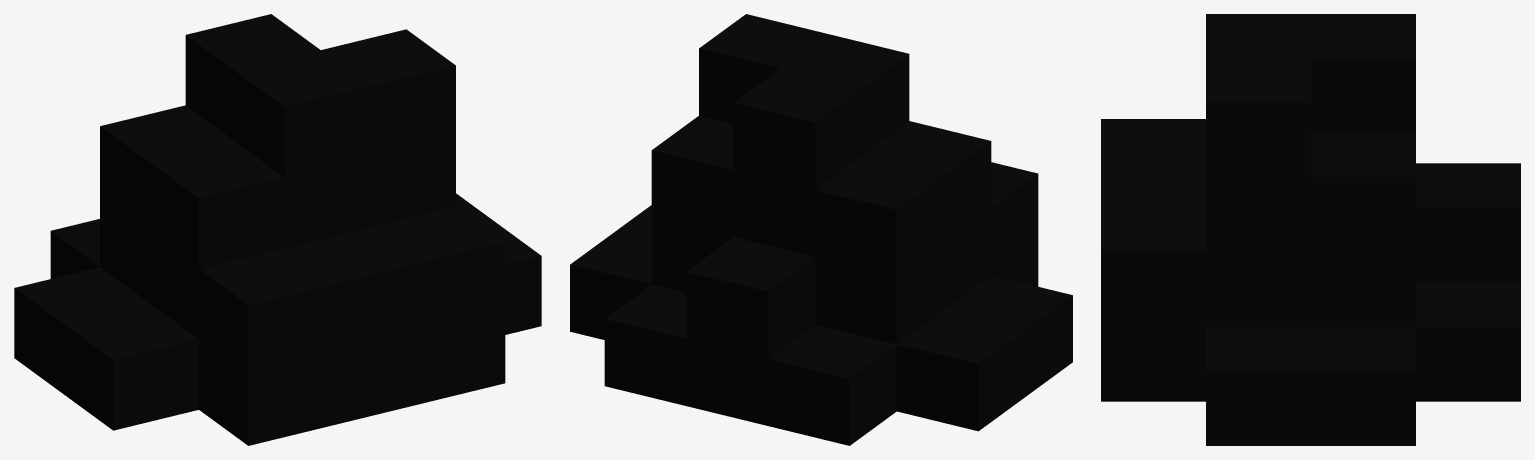
The model's file is LavaRock.obj.
The picture shows the model from 3 angles, left to right: view 1: azimuth 30°, elevation 25°; view 2: azimuth 150°, elevation 25°; view 3: azimuth 270°, elevation 25°; orthographic projection. The views are drawn at different scales.
Parts seen in each view (by area): view 1: LavaRock; view 2: LavaRock; view 3: LavaRock.
Part boxes in pixels (left/top/right/bottom): LavaRock: left=14, top=14, right=541, bottom=445; LavaRock: left=570, top=14, right=1072, bottom=445; LavaRock: left=1101, top=14, right=1520, bottom=445.
Bounding box in the file's own units: 7 × 4.4 × 5.6.
